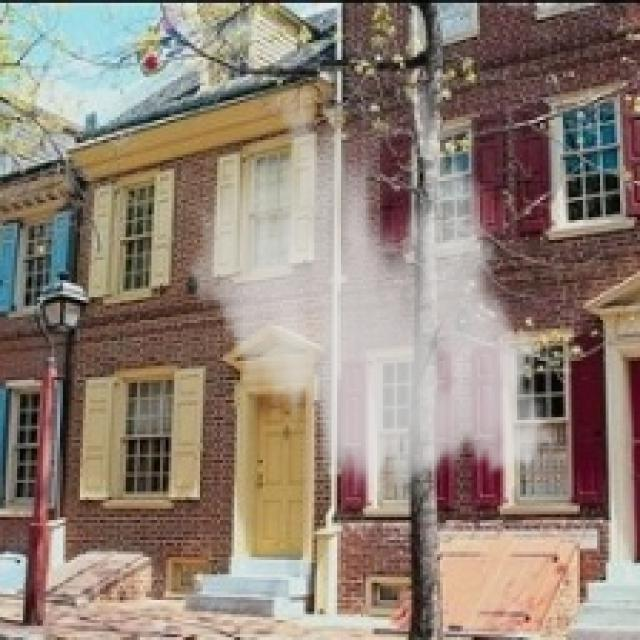smoke: (177, 88, 566, 506)
